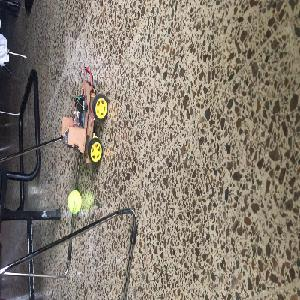Ball: (68, 190, 82, 214)
Robot: (60, 80, 107, 164)
